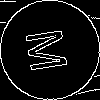M: (25, 25, 77, 74)
